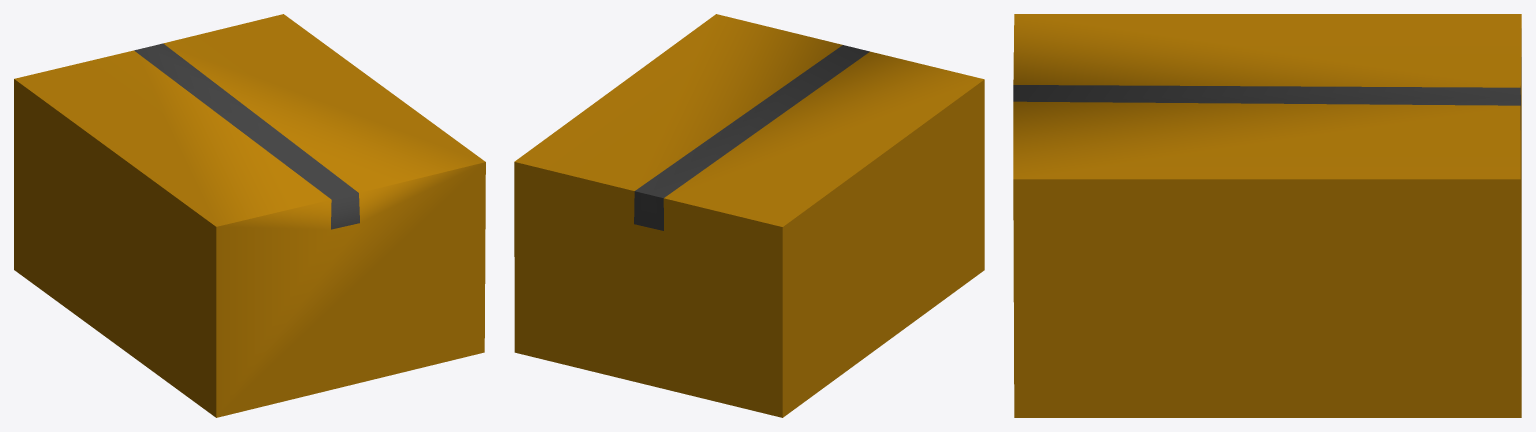
The model's file is CardBox.fbx.
The picture shows the model from 3 angles, left to right: view 1: azimuth 30°, elevation 25°; view 2: azimuth 150°, elevation 25°; view 3: azimuth 270°, elevation 25°; orthographic projection. The views are drawn at different scales.
Visible parts, largest first — view 1: Delivery_Box; view 2: Delivery_Box; view 3: Delivery_Box.
Boxes of the visible parts, x1=… form: Delivery_Box: x1=14, y1=14, x2=485, y2=417; Delivery_Box: x1=514, y1=14, x2=984, y2=417; Delivery_Box: x1=1013, y1=14, x2=1521, y2=417.
Size of the model in its own units: 1.87 by 1.27 by 2.44.
